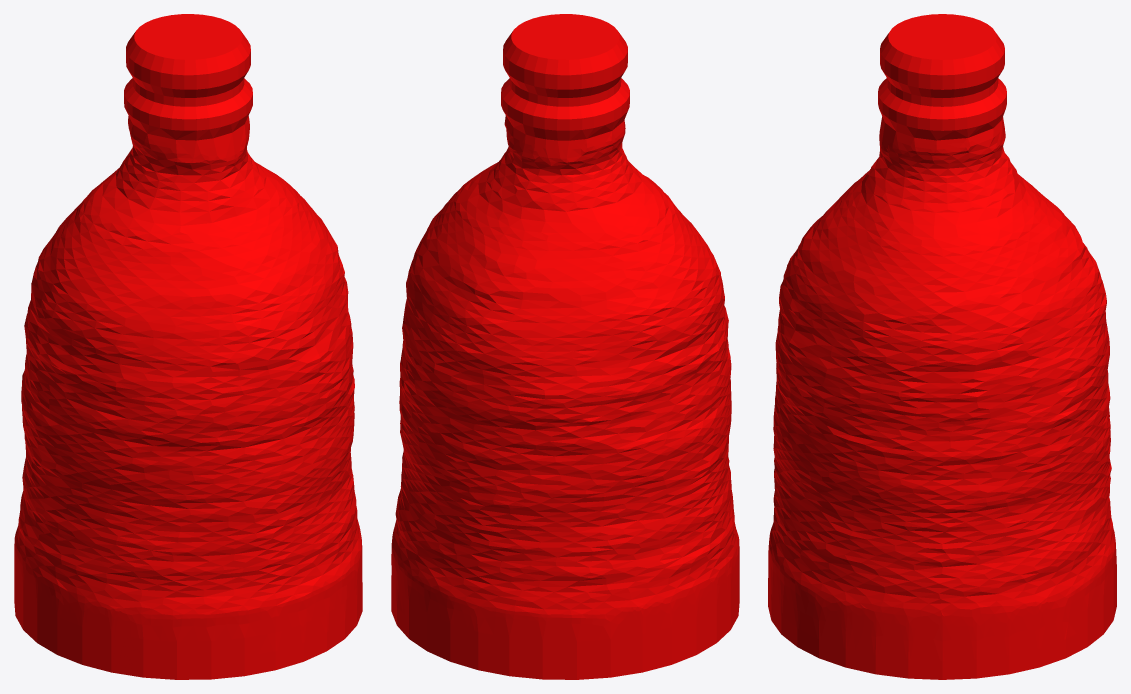
Rendered from fausse.obj.
The picture shows the model from 3 angles, left to right: view 1: azimuth 30°, elevation 25°; view 2: azimuth 150°, elevation 25°; view 3: azimuth 270°, elevation 25°; orthographic projection.
Parts seen in each view (by area): view 1: Cylinder; view 2: Cylinder; view 3: Cylinder.
Boxes of the visible parts, box(x1,y1,x2,y2) form: Cylinder: box(14, 14, 362, 679); Cylinder: box(391, 14, 739, 679); Cylinder: box(768, 14, 1116, 679).
Size of the model in its own units: 50 by 90 by 50.
Materials: 1 (1 with a texture image).
